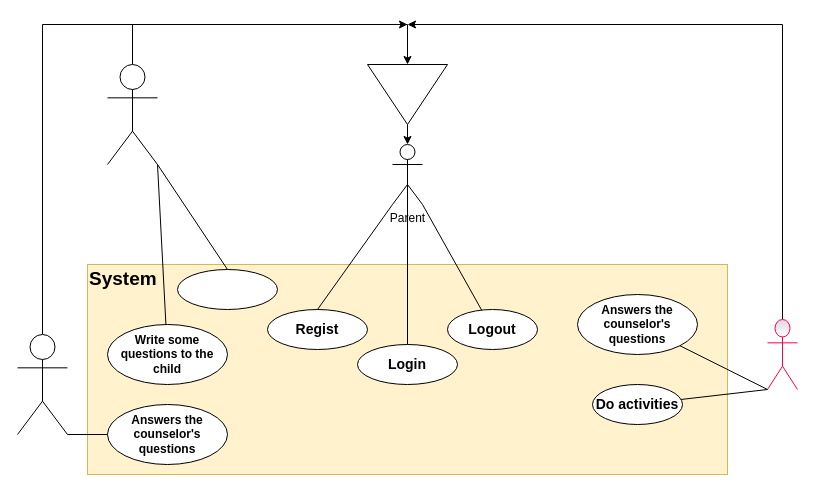
This 815x492 diagram has some shape labels left out. Here are the shapes that lost their labels. From the top down, the box of each, then its label:
(106, 64, 158, 164): Psychological
(176, 268, 278, 310): Admitted the case
(766, 318, 798, 390): Child
(16, 334, 68, 434): Guardian
